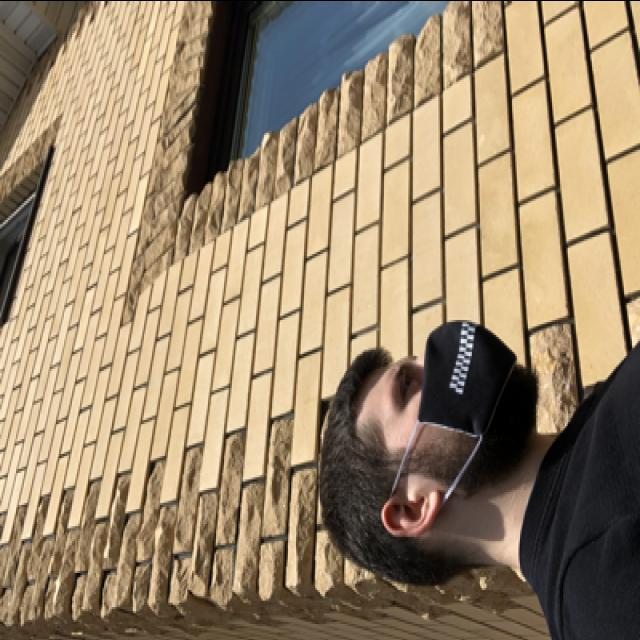with_mask: (371, 321, 539, 447)
